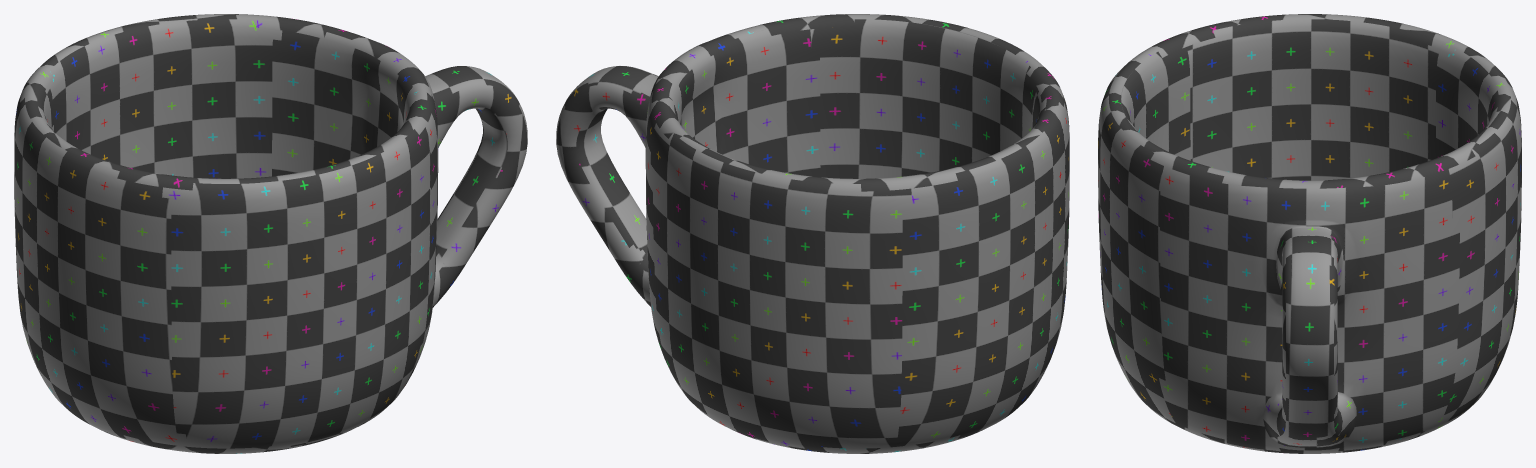
Rendered from taza.gltf.
The picture shows the model from 3 angles, left to right: view 1: azimuth 30°, elevation 25°; view 2: azimuth 150°, elevation 25°; view 3: azimuth 270°, elevation 25°; orthographic projection.
Parts seen in each view (by area): view 1: Taza; view 2: Taza; view 3: Taza.
Part boxes in pixels (<box>): Taza: <box>14,14,527,453</box>; Taza: <box>556,14,1069,453</box>; Taza: <box>1098,14,1521,453</box>.
Bounding box in the file's own units: 3.24 × 1.98 × 2.49.
1 material, 1 textured.
